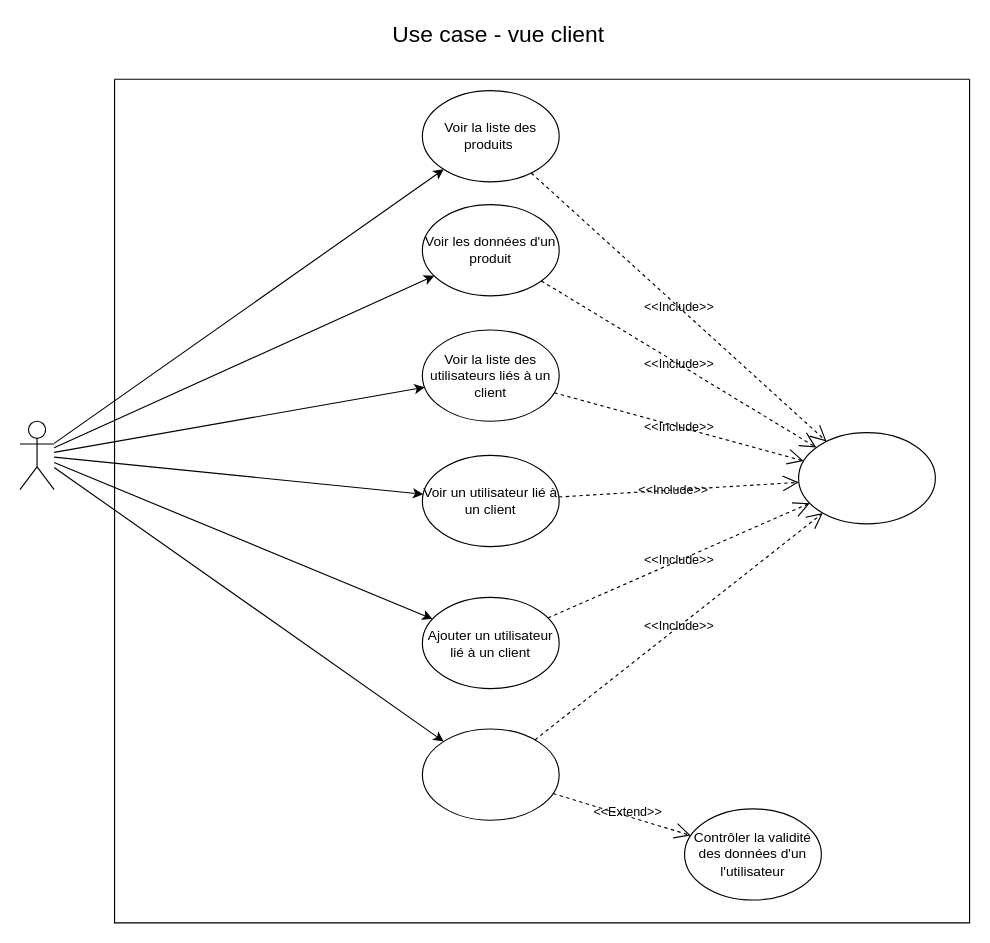
The diagram is 990 pixels wide and 943 high, and some of its shapes have lost their labels. The shapes that lost their labels are listed below. From the top down, each one's box as (x1, y1, x2, y2) in pixels, then its label:
(19, 420, 54, 490): Client
(797, 431, 935, 524): S'authentifier
(421, 728, 559, 820): Supprimer un utilisateur ajouté par un client
